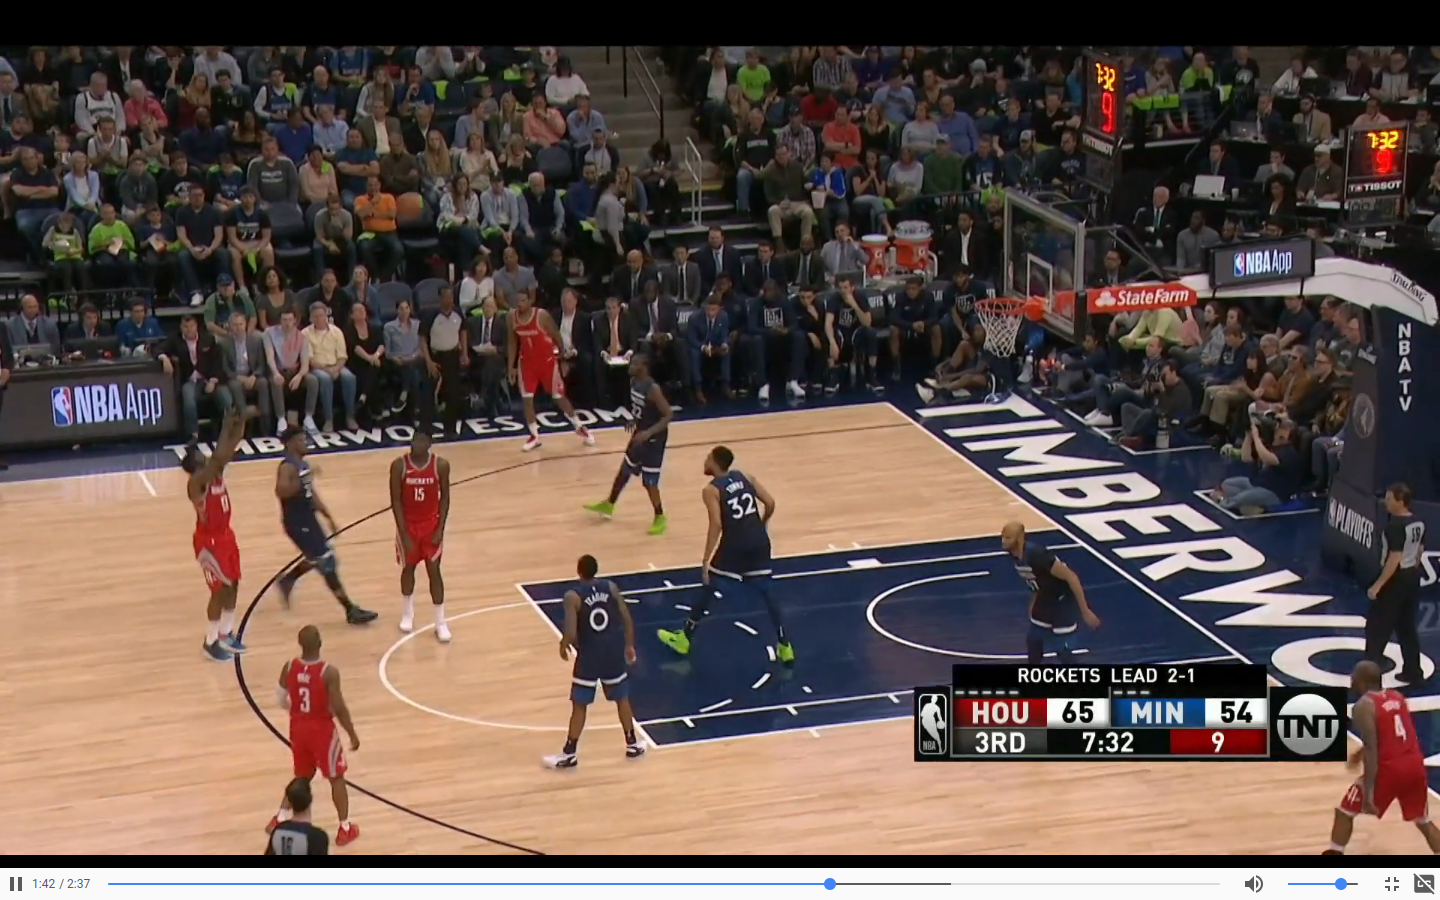ball: (400, 197, 422, 220)
player: (281, 431, 374, 626), (184, 418, 255, 671), (685, 448, 767, 659), (564, 561, 642, 779), (1004, 527, 1105, 659), (509, 296, 591, 447), (390, 431, 449, 638), (600, 359, 662, 528), (283, 635, 356, 773)
referee: (269, 785, 333, 848)
